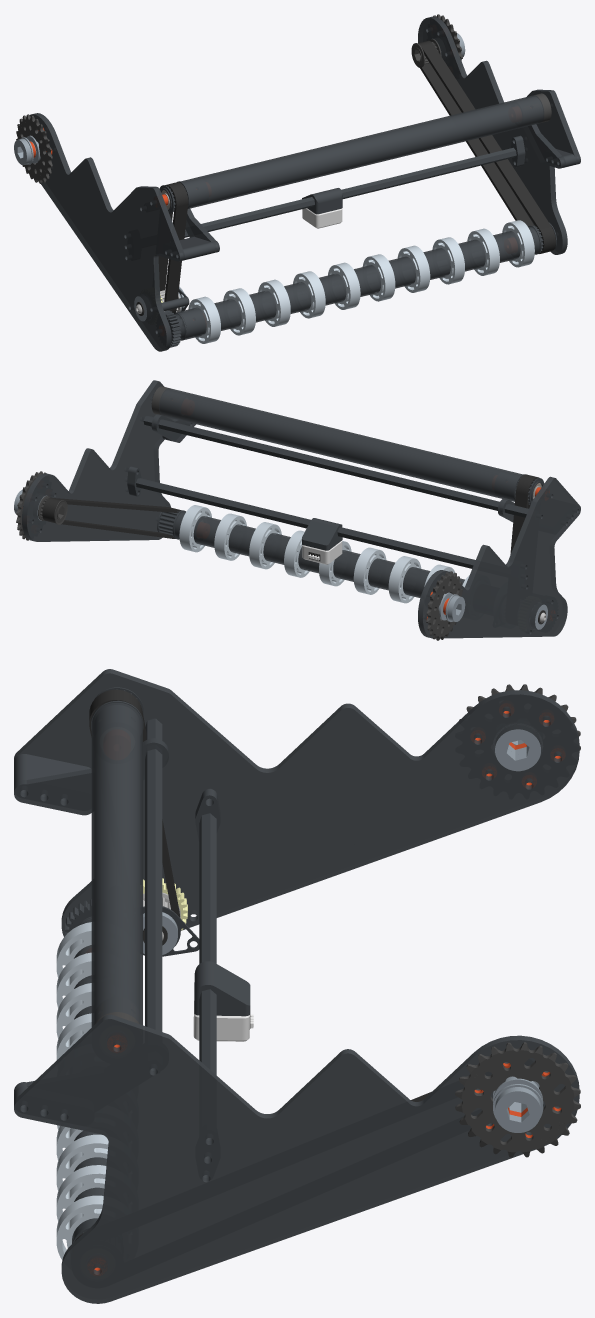
3 views of the same model, one above another, from view 1: azimuth 30°, elevation 25°; view 2: azimuth 150°, elevation 25°; view 3: azimuth 270°, elevation 25° (orthographic). The views are drawn at different scales.
Parts seen in each view (by area): view 1: SRPP Intake Plate, Polycarb w/ Cat Tongue Tape, Part 1 (×13), Part 11, Polycarb Roller, 132T 5M 15mm Wide Belt, Part 5, 75T 5M 15mm Wide Belt, Part 15 (×2), 24t Aluminum Plate Sprocket (#35 Chain, SplineXL Bore) (WCP-, Part 3, id201 (+1 smaller); view 2: SRPP Intake Plate, Polycarb w/ Cat Tongue Tape, Part 11, Part 1 (×10), Polycarb Roller, Part 4, Part 5, 24t Aluminum Plate Sprocket (#35 Chain, SplineXL Bore) (WCP- (×2), 132T 5M 15mm Wide Belt, 75T 5M 15mm Wide Belt, id201, Part 15 (+3 smaller); view 3: Part 11, SRPP Intake Plate, Polycarb w/ Cat Tongue Tape, Part 1 (×9), 24t Aluminum Plate Sprocket (#35 Chain, SplineXL Bore) (WCP-, Part 4, Part 5, .5" Hex ID 1.125" OD Flanged Bearing (217-2734) (×2), Part 15, Part 3, 75T 5M 15mm Wide Belt, id201 (+1 smaller).
Part boxes in pixels (x1,y1,x2,y2): SRPP Intake Plate: (30, 113, 184, 351); Polycarb w/ Cat Tongue Tape: (181, 95, 544, 208); Part 1 (×13): (159, 179, 534, 347); Part 11: (418, 16, 580, 254); Polycarb Roller: (177, 226, 539, 339); 132T 5M 15mm Wide Belt: (418, 40, 555, 253); Part 5: (129, 147, 516, 249); 75T 5M 15mm Wide Belt: (158, 182, 188, 312); Part 15 (×2): (185, 124, 565, 252); 24t Aluminum Plate Sprocket (#35 Chain, SplineXL Bore) (WCP-: (16, 114, 52, 183); Part 3: (163, 236, 214, 260); id201: (302, 208, 342, 228); SRPP Intake Plate: (418, 476, 580, 638); Polycarb w/ Cat Tongue Tape: (159, 388, 521, 501); Part 11: (22, 380, 173, 541); Part 1 (×10): (157, 471, 544, 603); Polycarb Roller: (174, 511, 464, 597); Part 4: (143, 416, 537, 518); Part 5: (136, 478, 522, 573); 24t Aluminum Plate Sprocket (#35 Chain, SplineXL Bore) (WCP- (×2): (16, 471, 462, 640); 132T 5M 15mm Wide Belt: (42, 497, 181, 538); 75T 5M 15mm Wide Belt: (510, 474, 539, 554); id201: (302, 541, 342, 564); Part 15: (151, 414, 195, 442); Part 11: (14, 1014, 579, 1303); SRPP Intake Plate: (14, 669, 579, 936); Polycarb w/ Cat Tongue Tape: (91, 702, 142, 1027); Part 1 (×9): (56, 687, 250, 1259); 24t Aluminum Plate Sprocket (#35 Chain, SplineXL Bore) (WCP-: (455, 1042, 580, 1157); Part 4: (145, 718, 162, 1071); Part 5: (199, 813, 216, 1159); .5" Hex ID 1.125" OD Flanged Bearing (217-2734) (×2): (493, 724, 543, 1132); Part 15: (14, 738, 168, 815); Part 3: (14, 754, 90, 810); 75T 5M 15mm Wide Belt: (89, 689, 179, 917); id201: (193, 1001, 253, 1041).
Size of the model in its own units: 0.5588 by 0.1972 by 0.35.
